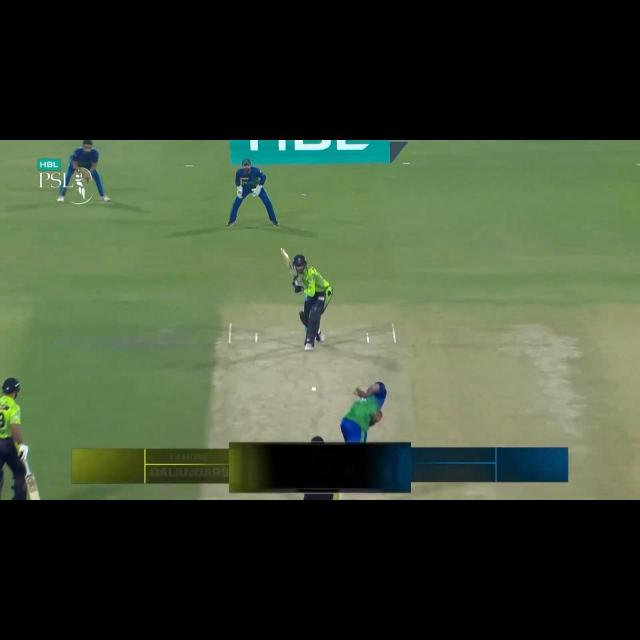bat: (22, 473, 44, 500), (280, 246, 297, 280)
toe: (280, 247, 288, 258)
